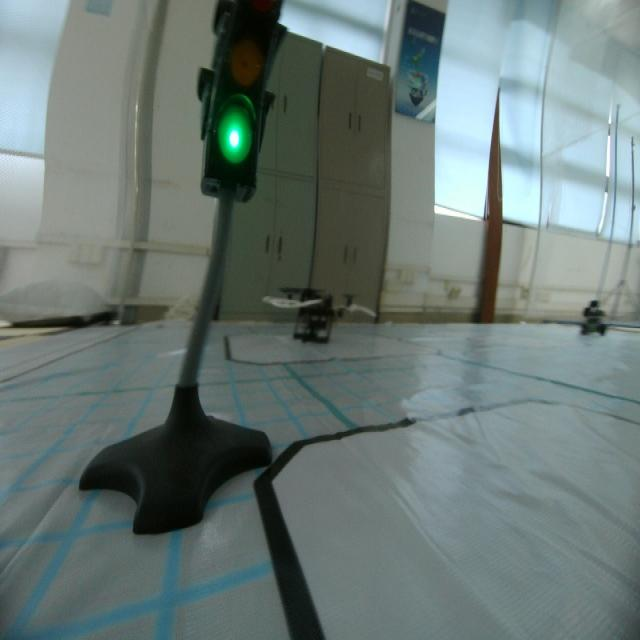green: (206, 4, 268, 191)
